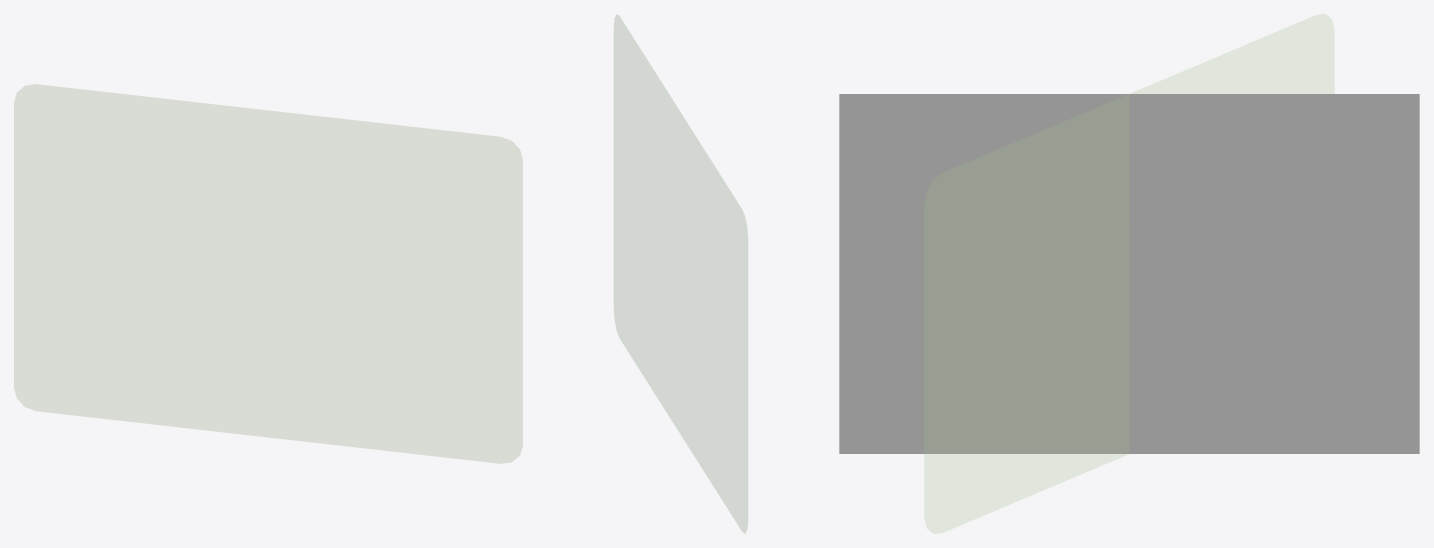
The model's file is PlasticPlatev2.gltf.
The picture shows the model from 3 angles, left to right: view 1: azimuth 30°, elevation 25°; view 2: azimuth 150°, elevation 25°; view 3: azimuth 270°, elevation 25°; orthographic projection. The views are drawn at different scales.
Visible parts, largest first — view 1: Plane.001; view 2: Plane.001; view 3: Plane, Plane.001.
Boxes of the visible parts, x1,y1,x2,y2 form: Plane.001: (14,84,522,463); Plane.001: (614,15,747,532); Plane: (839,94,1419,453); Plane.001: (924,14,1334,533).
Bounding box in the file's own units: 2.06 × 2 × 2.92.
